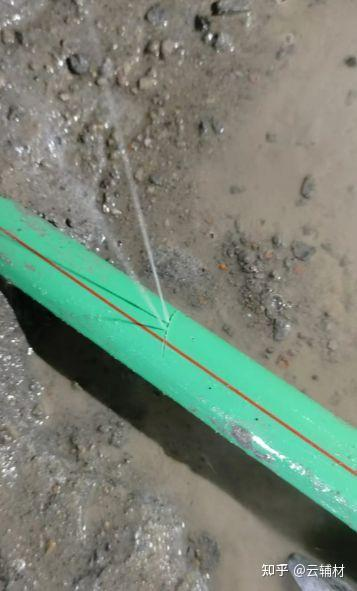pipe burst: (12, 23, 181, 339)
water accumulation: (20, 0, 357, 591)
